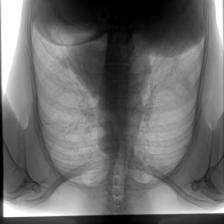tuberculosis: (20, 0, 210, 215)
